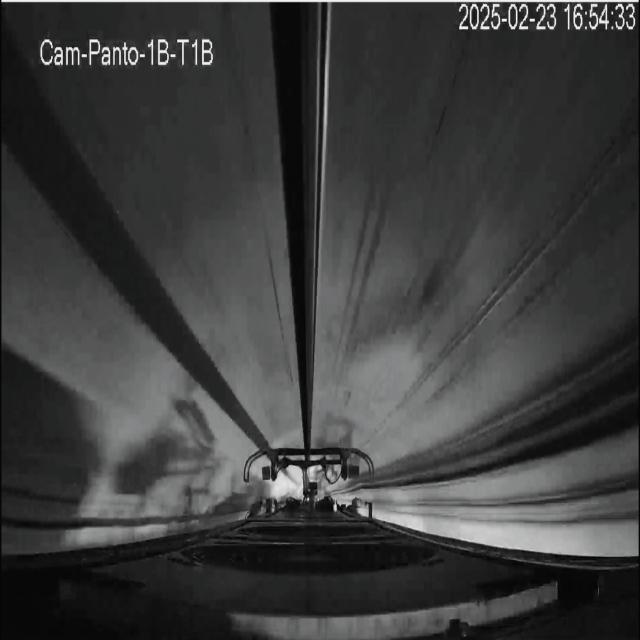Camera Stamp: (35, 28, 219, 71)
Date Stamp: (459, 3, 637, 33)
